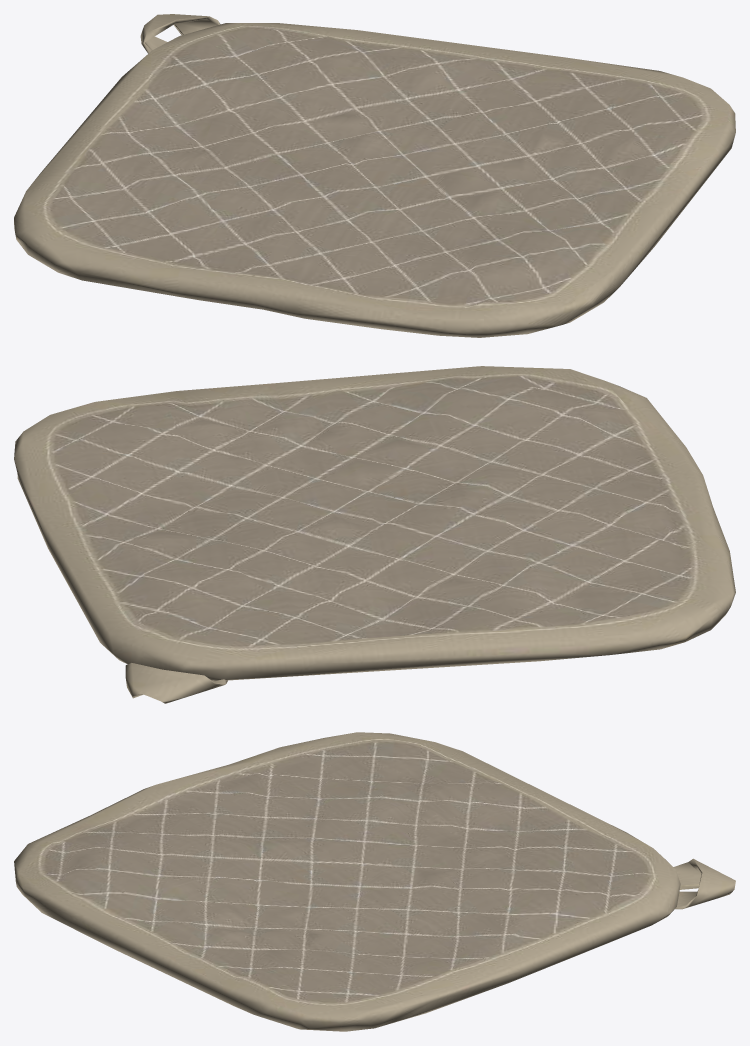
3 views of the same model, one above another, from view 1: azimuth 30°, elevation 25°; view 2: azimuth 150°, elevation 25°; view 3: azimuth 270°, elevation 25° (orthographic). The views are drawn at different scales.
Parts seen in each view (by area): view 1: ASY_ART_40618000_S01_NV01; view 2: ASY_ART_40618000_S01_NV01; view 3: ASY_ART_40618000_S01_NV01.
Part boxes in pixels (x1=…): ASY_ART_40618000_S01_NV01: x1=14, y1=14, x2=735, y2=337; ASY_ART_40618000_S01_NV01: x1=14, y1=366, x2=735, y2=703; ASY_ART_40618000_S01_NV01: x1=14, y1=732, x2=735, y2=1031.
Size of the model in its own units: 0.2378 by 0.0118 by 0.2521.
1 material, 1 textured.
